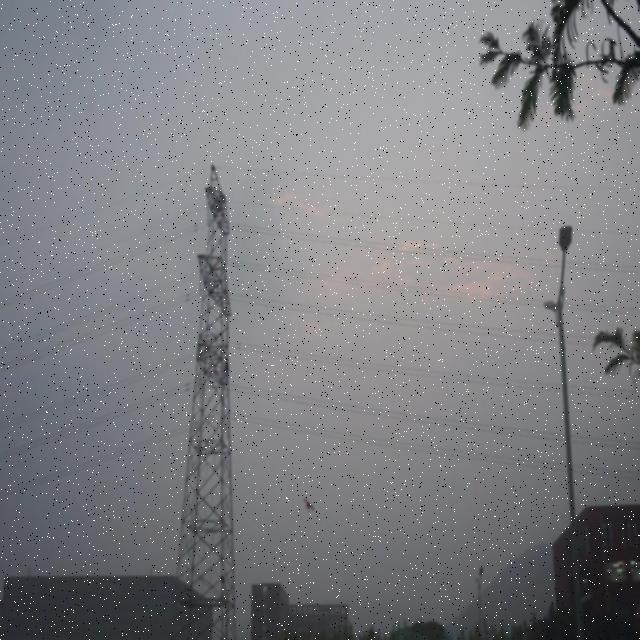UAV: (303, 497, 315, 512)
